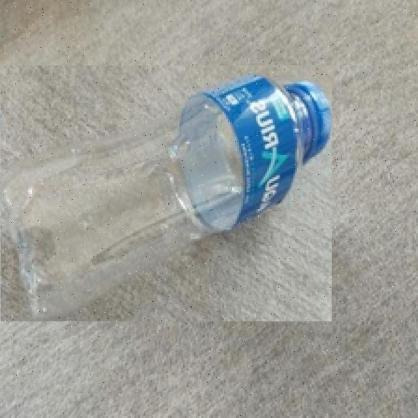bottle: (1, 66, 332, 322)
cap: (285, 78, 343, 157)
label: (194, 66, 304, 237)
